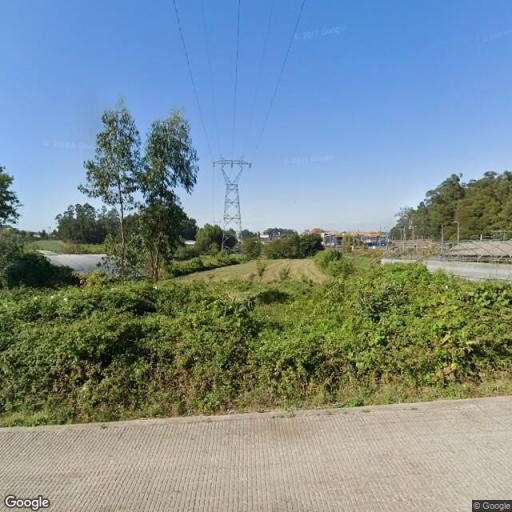wt_5: (210, 152, 254, 241)
